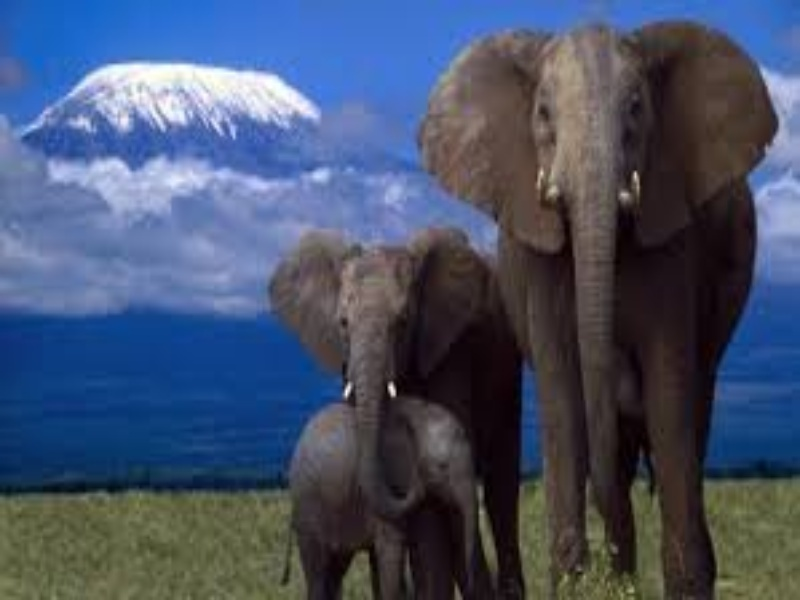elephant: (257, 23, 785, 591)
